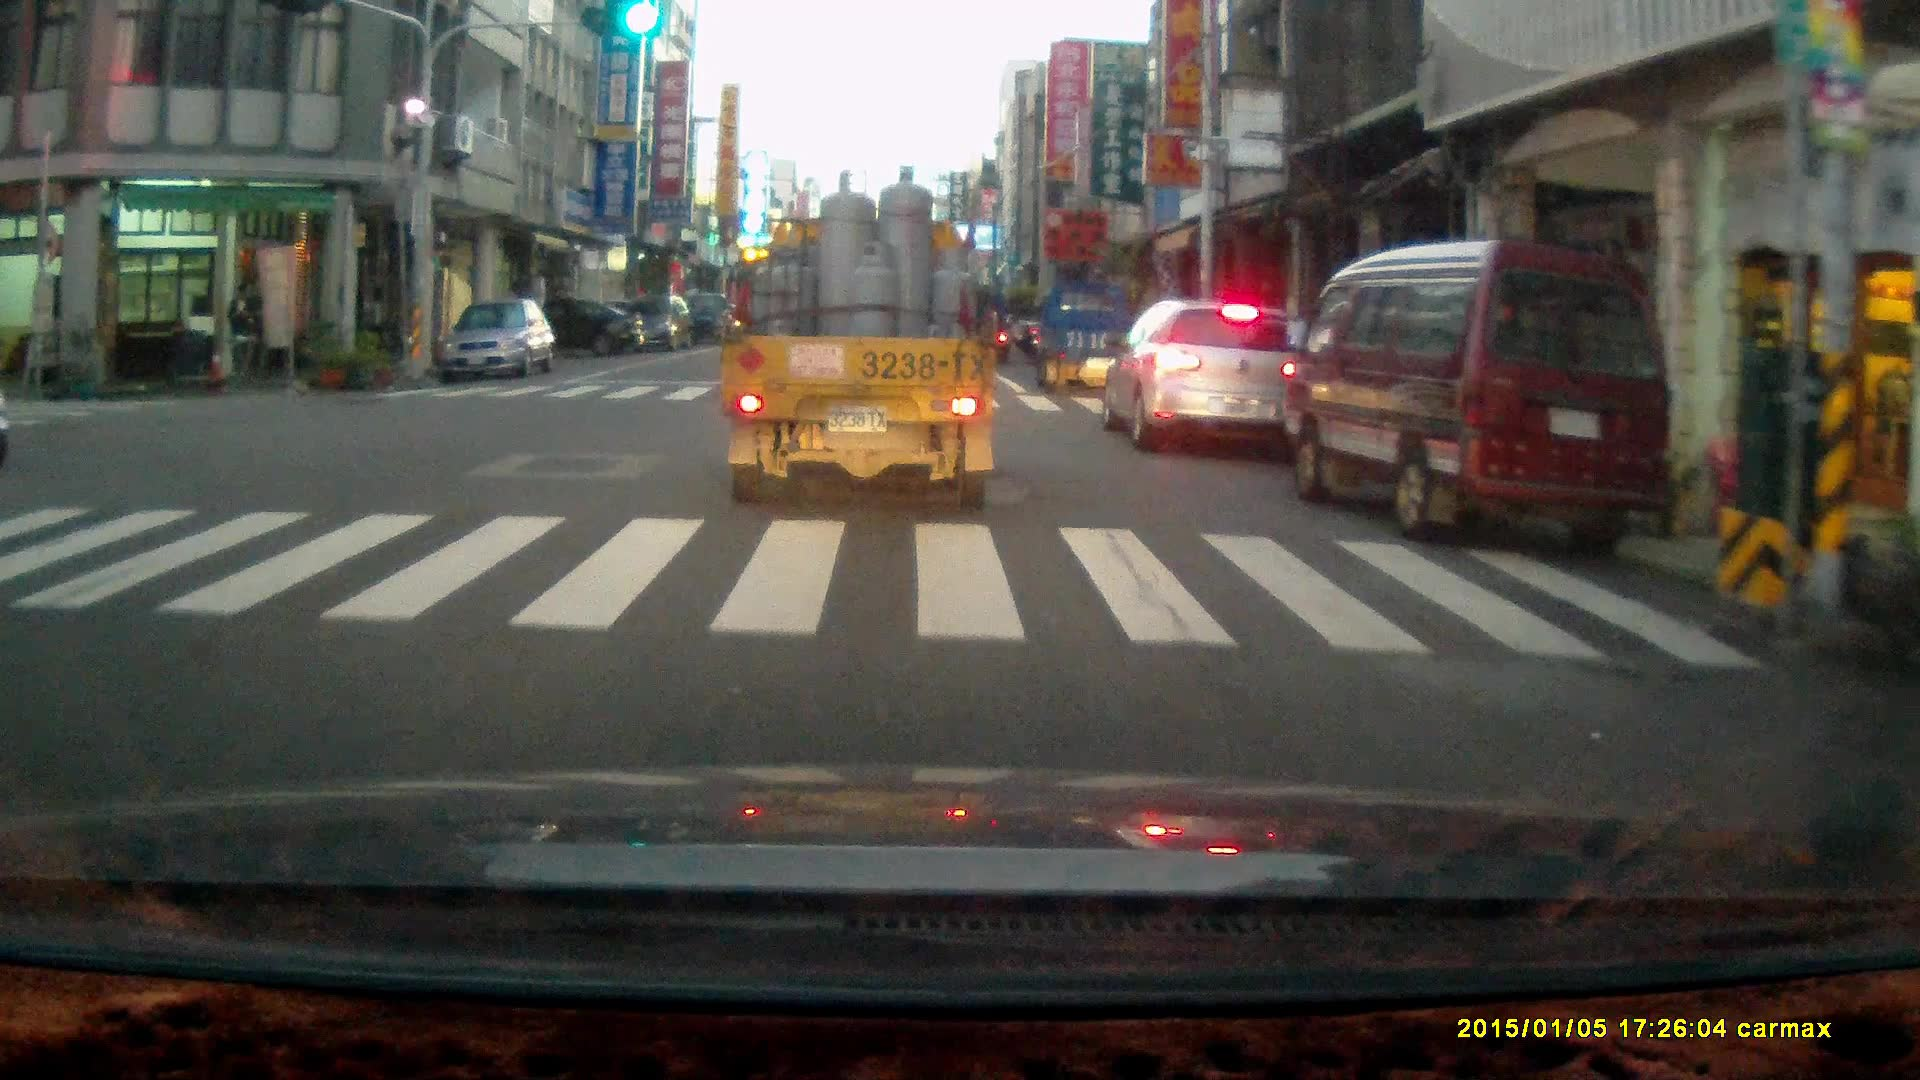pedestrian: (225, 278, 259, 390)
vehicle: (1285, 235, 1670, 556), (723, 162, 997, 514), (1104, 288, 1311, 458), (1037, 274, 1153, 399), (442, 296, 556, 385), (491, 295, 639, 360), (596, 296, 691, 353)
